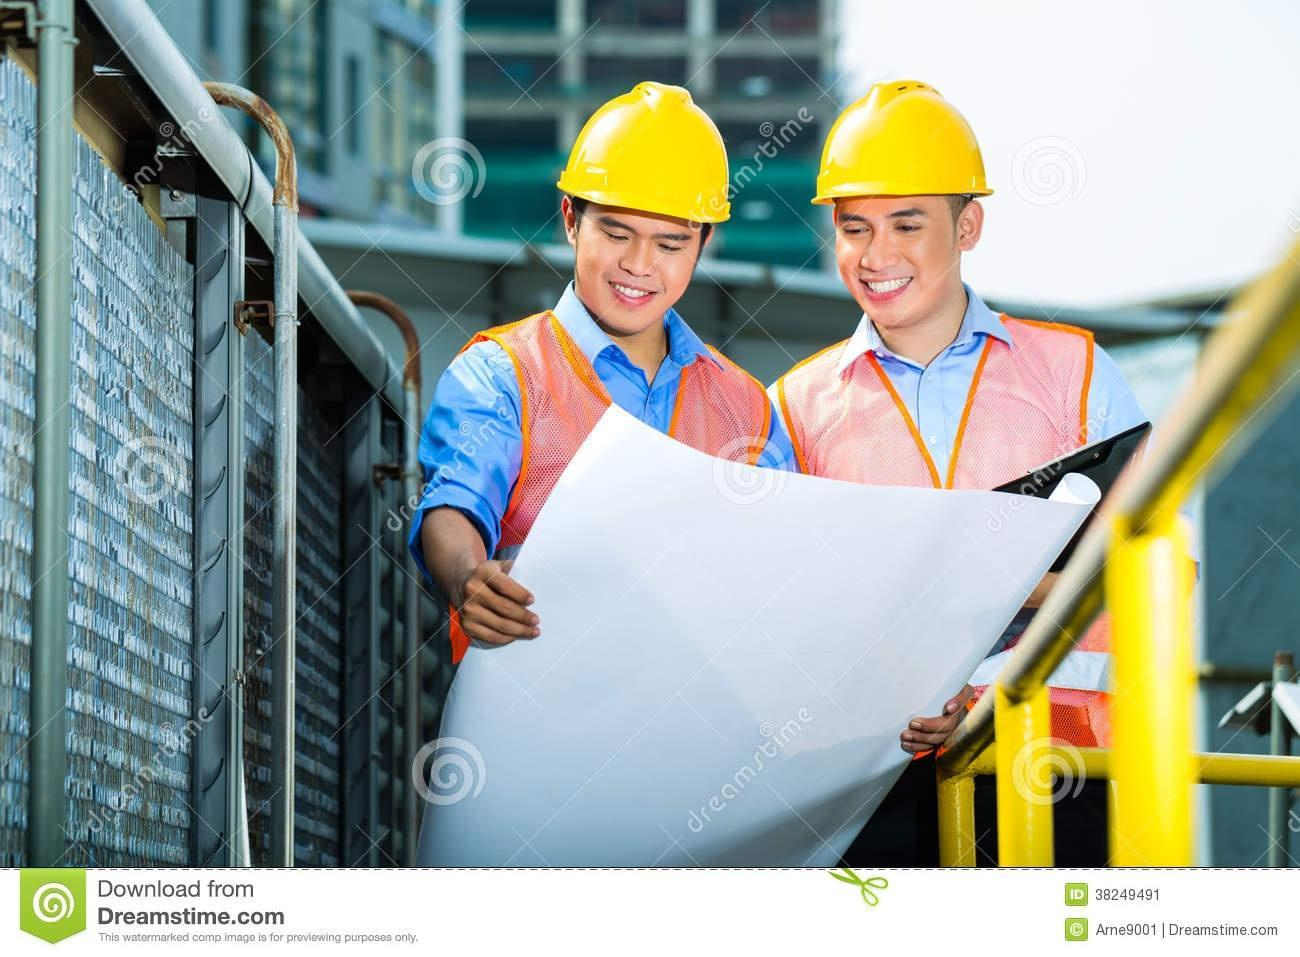helmet: (801, 73, 1001, 230), (546, 79, 744, 236)
person: (785, 59, 1167, 596), (431, 79, 766, 530)
